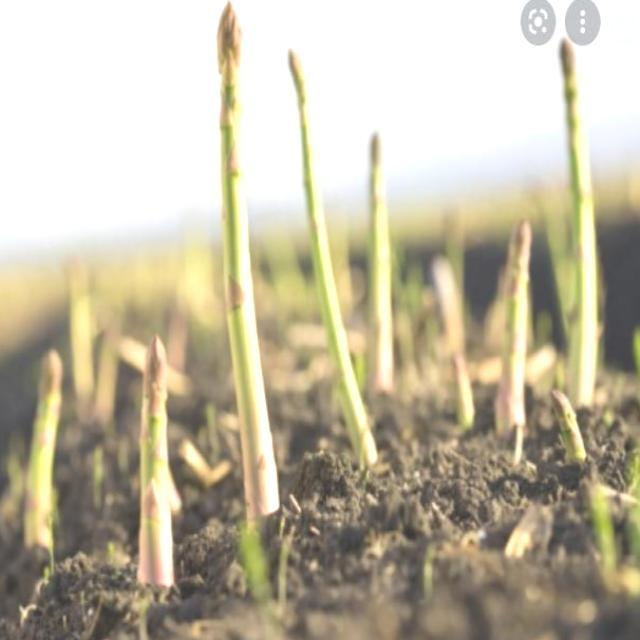aspargus: (288, 49, 375, 466), (217, 4, 279, 520), (560, 34, 601, 411), (137, 338, 176, 596), (22, 345, 66, 553)
